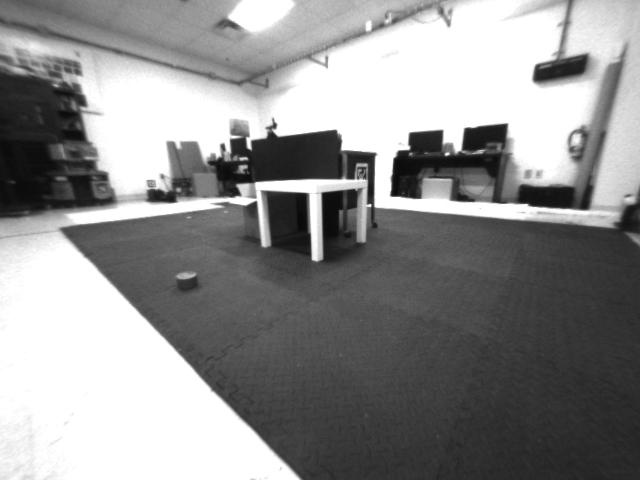dogtoy: (163, 259, 220, 308)
